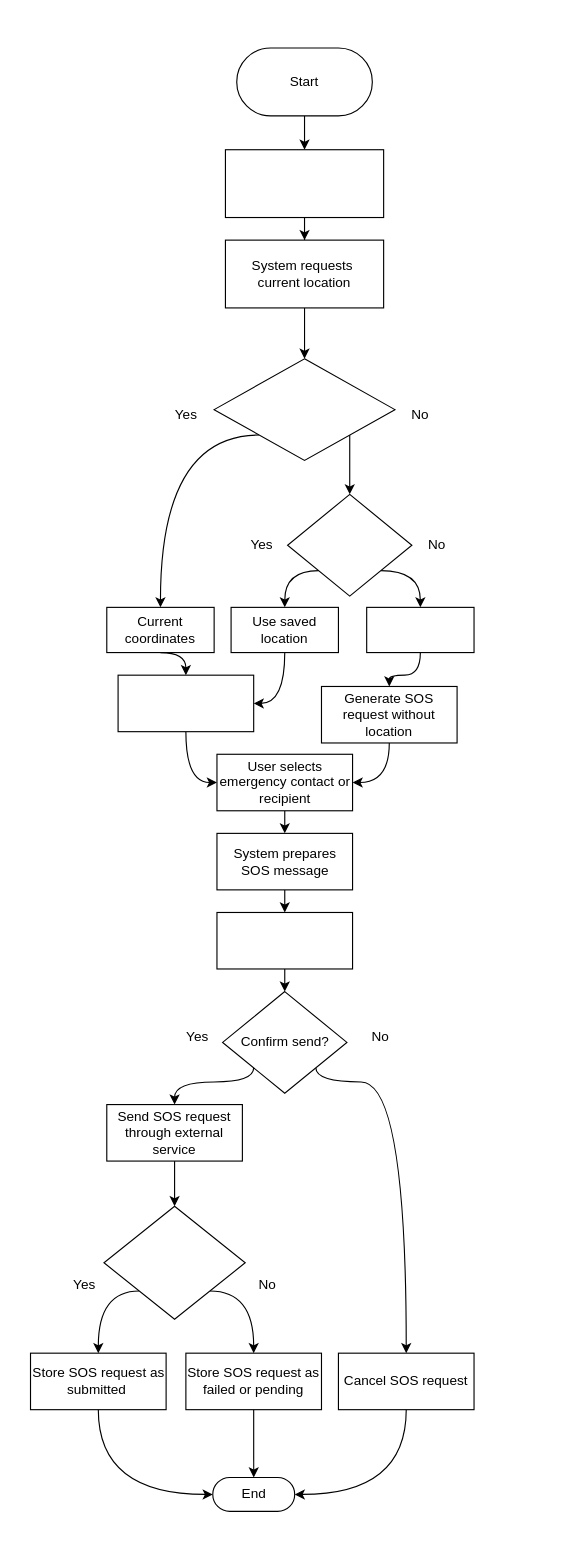
The diagram is 570 pixels wide and 1564 high, and some of its shapes have lost their labels. The shapes that lost their labels are listed below. From the top down, each one's centre as x and y in pixels, then its label:
At point (304, 183): "User selects SOS feature".
At point (304, 409): "Location permission granted?".
At point (349, 544): "Saved location available?".
At point (420, 629): "Continue SOS without location".
At point (185, 703): "Generate SOS request with location".
At point (284, 940): "User confirms SOS request".
At point (174, 1262): "SOS request submitted successfully?".
